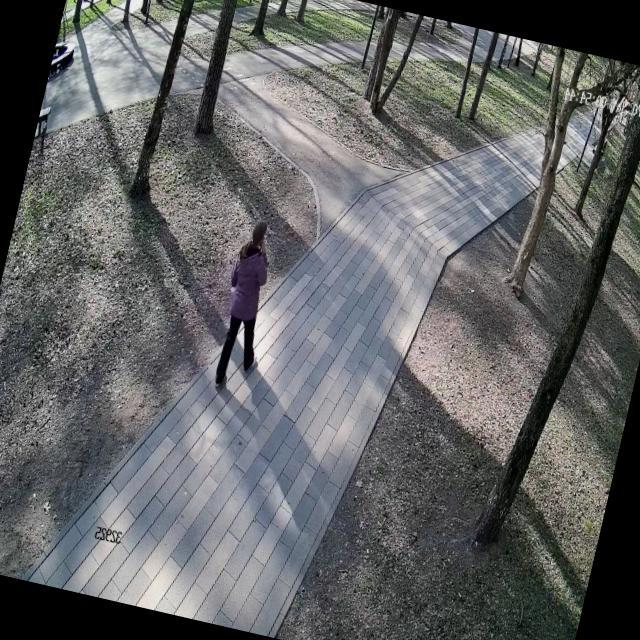person: (205, 214, 288, 395)
